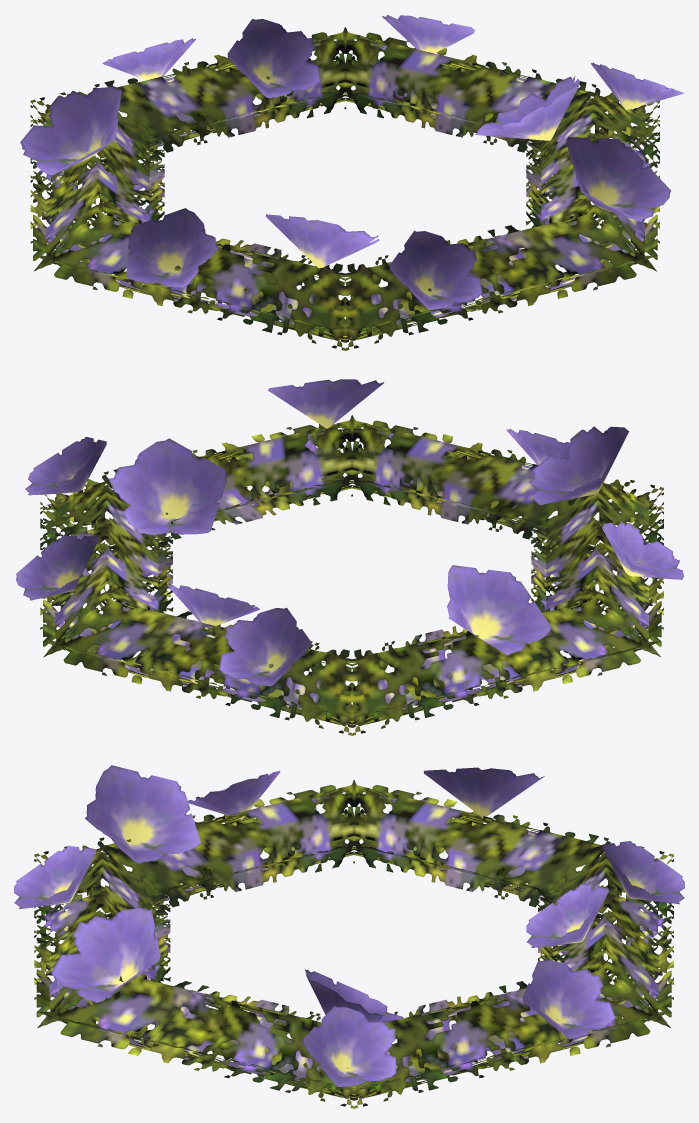
Rendered from flowerswreath02.obj.
The picture shows the model from 3 angles, top to bottom: view 1: azimuth 30°, elevation 25°; view 2: azimuth 150°, elevation 25°; view 3: azimuth 270°, elevation 25°; orthographic projection. The views are drawn at different scales.
Parts seen in each view (by area): view 1: flowerswreath020; view 2: flowerswreath020; view 3: flowerswreath020.
Boxes of the visible parts, x1,y1,x2,y2 form: flowerswreath020: (20,15,683,350); flowerswreath020: (16,379,683,735); flowerswreath020: (14,765,684,1108).
Bounding box in the file's own units: 1.57 × 0.3061 × 1.39.
Materials: 1 (1 with a texture image).
